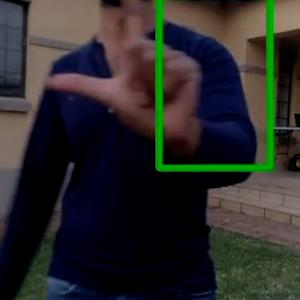land_hand: (40, 0, 208, 150)
